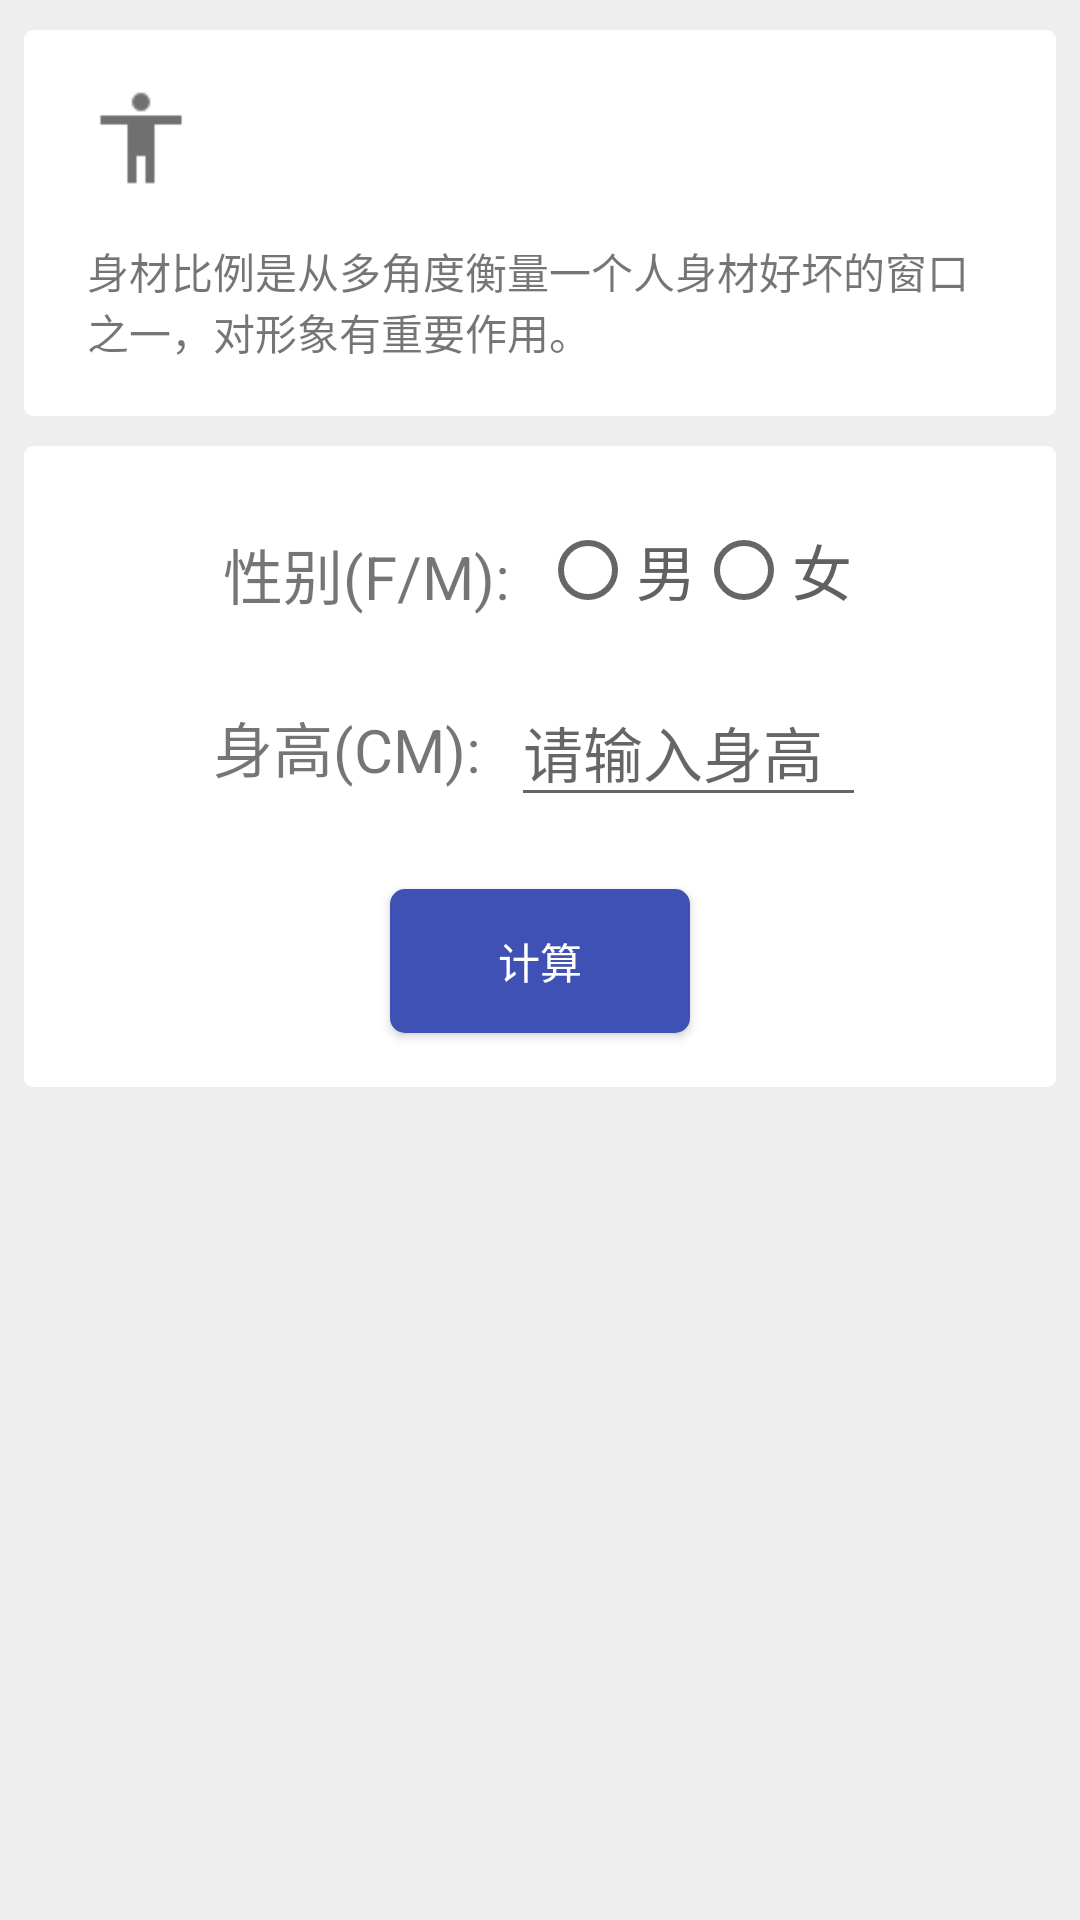

Named icons in this screenshot (1080w x 1920h) and their centers, point (x, y):
bestbody: point (141, 138)
